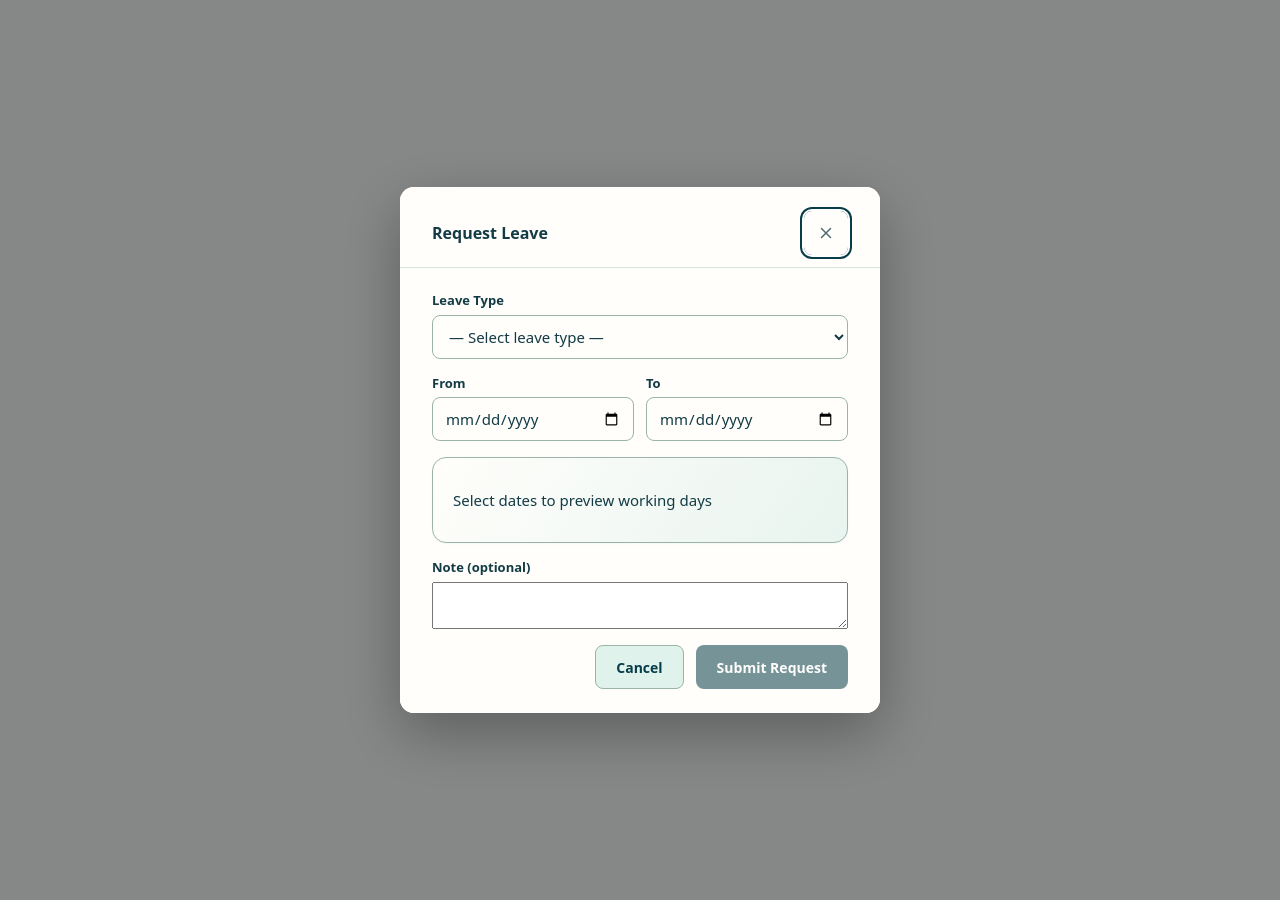
RequestLeaveModal Coastal ATDD — Story 11.1 › [P0] zero working days keeps Submit blocked after explainer migration
Type "2026-08-15" into the date field with test id "leave-from-date" at (533, 419), box x1=432 y1=397 x2=634 y2=441
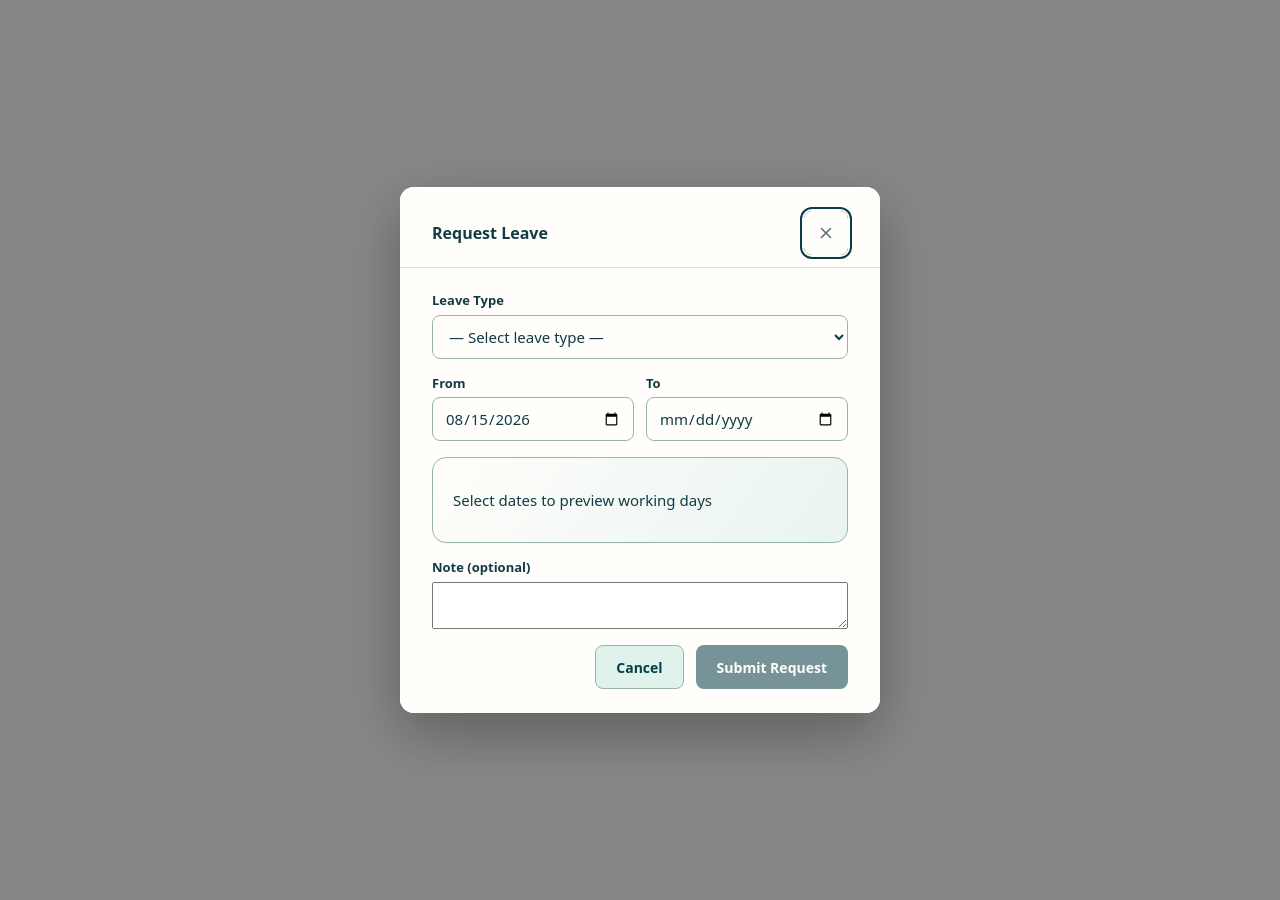
Type "2026-08-16" into the date field with test id "leave-to-date" at (747, 419), box x1=646 y1=397 x2=848 y2=441
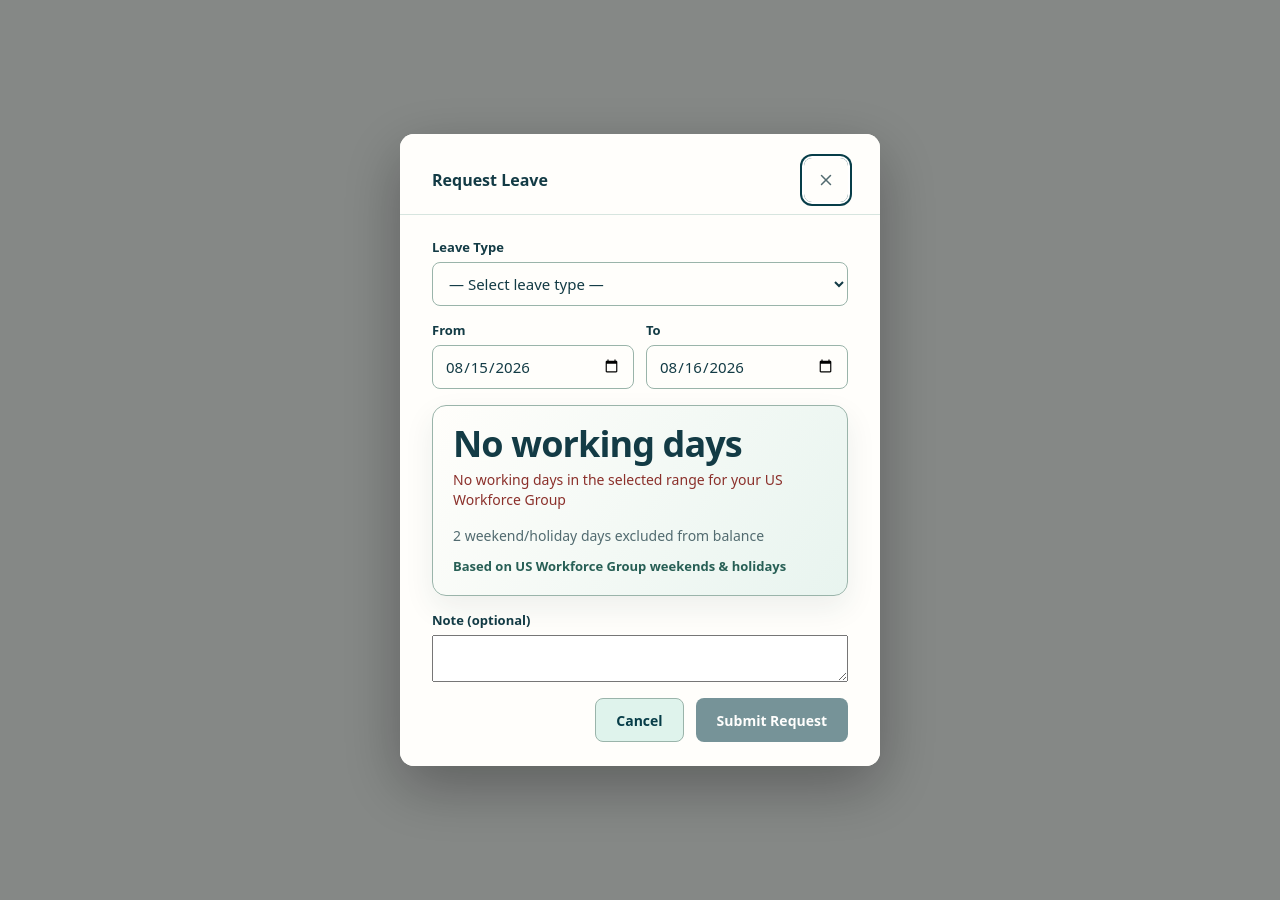
expect the button "Submit Request" is disabled: met, box x1=696 y1=698 x2=848 y2=742
expect the message with test id "working-day-result" shows "No working days": met, box x1=453 y1=418 x2=742 y2=468
